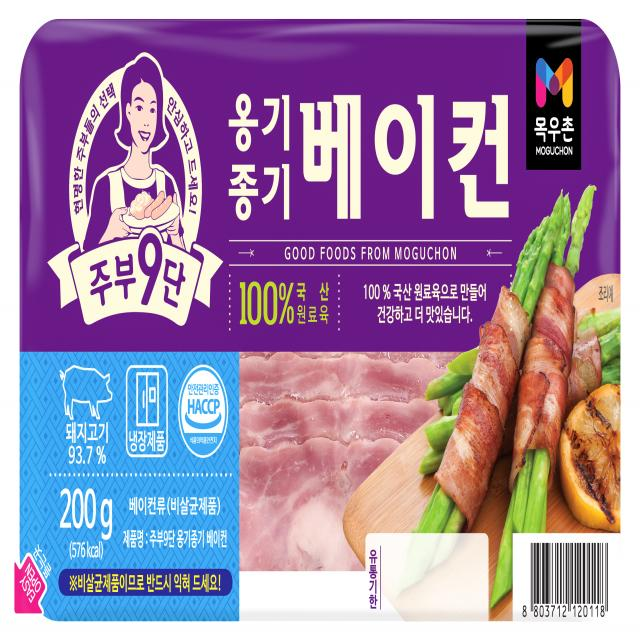bacon: (3, 1, 640, 640)
